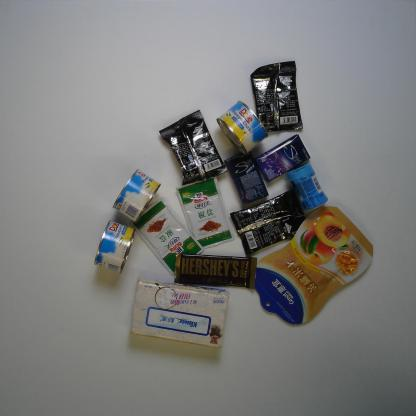Canned Food: (214, 98, 272, 159), (110, 167, 162, 225), (91, 218, 137, 277)
Chocolate: (169, 252, 260, 294)
Dried Fruit: (251, 202, 377, 326)
Gum: (254, 132, 313, 184), (223, 151, 270, 207), (288, 162, 330, 215)
Instant Drink: (157, 107, 229, 187), (229, 189, 305, 254), (246, 58, 304, 136)
Seasoner: (133, 199, 206, 277), (176, 176, 236, 248)
Tissue: (127, 276, 230, 350)
